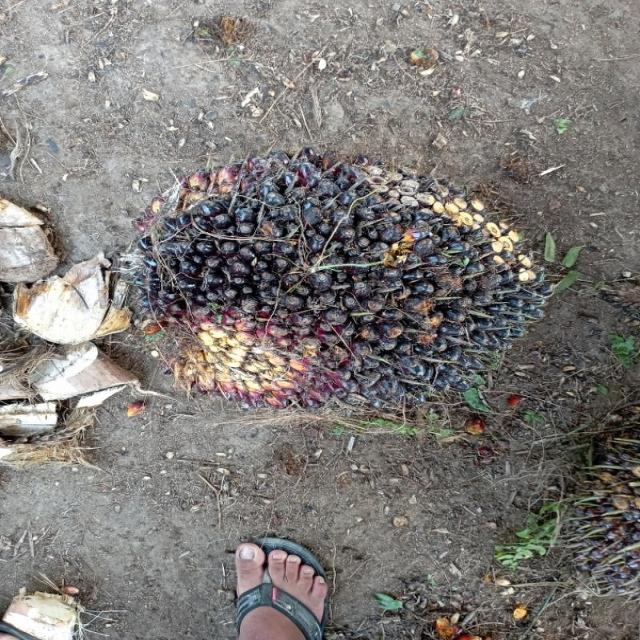fraksi 00: (111, 157, 556, 415)
